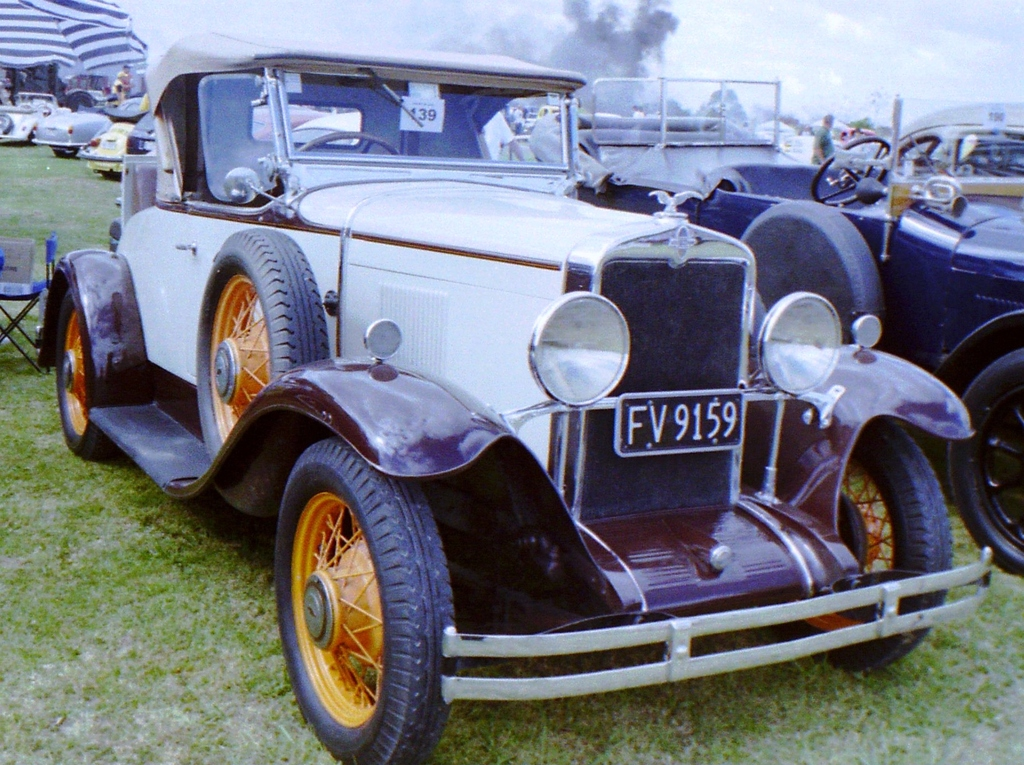Car: (504, 71, 1023, 579), (33, 105, 114, 163), (81, 120, 135, 178), (0, 84, 49, 145)
